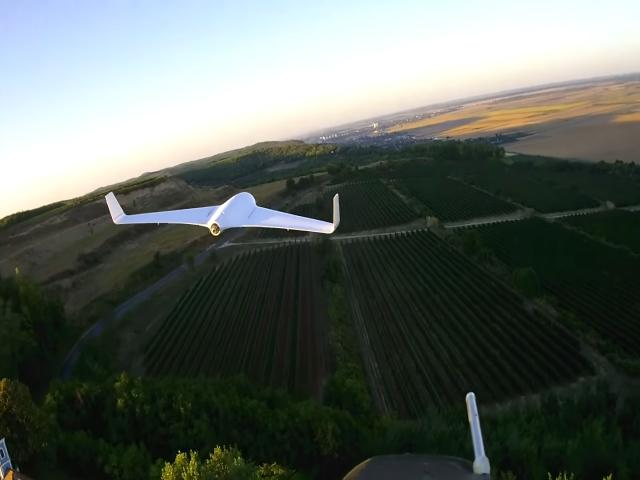plane: (105, 188, 342, 236)
